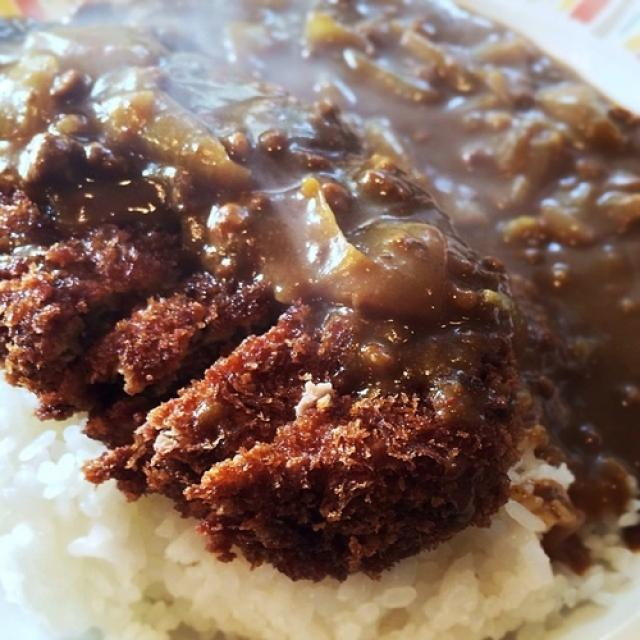炸货点心: (9, 18, 595, 618)
